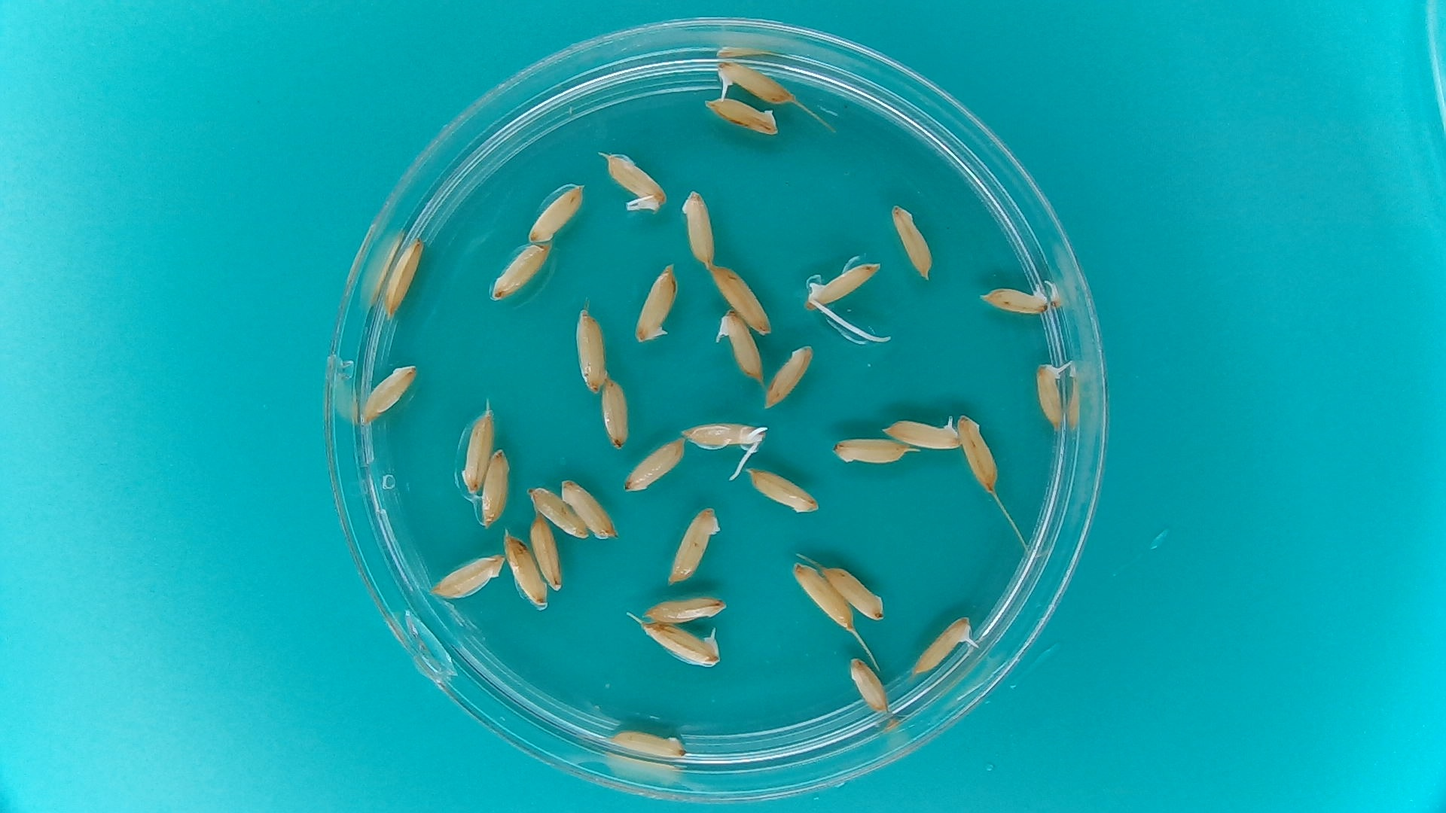no: (664, 503, 725, 586), (789, 560, 855, 633), (710, 264, 773, 336), (358, 363, 420, 427), (501, 527, 548, 610), (560, 477, 620, 541), (820, 565, 887, 622), (381, 238, 426, 322), (429, 552, 506, 601), (746, 465, 822, 514), (633, 263, 676, 345), (764, 343, 815, 412), (489, 244, 551, 300), (623, 439, 686, 494), (956, 415, 999, 495), (528, 184, 584, 245), (889, 202, 933, 279), (528, 486, 590, 540), (703, 98, 779, 139), (678, 185, 716, 266), (573, 308, 609, 393), (460, 410, 496, 495), (529, 513, 566, 592), (847, 653, 892, 717), (604, 727, 690, 760), (642, 593, 733, 623), (481, 449, 511, 532), (978, 280, 1049, 315), (830, 437, 912, 466), (1033, 360, 1066, 432), (601, 377, 633, 451)
yes: (596, 150, 670, 213), (906, 614, 978, 678), (644, 622, 724, 668), (803, 264, 877, 311), (721, 62, 795, 107), (721, 313, 765, 378), (881, 415, 962, 449), (684, 422, 768, 450)
